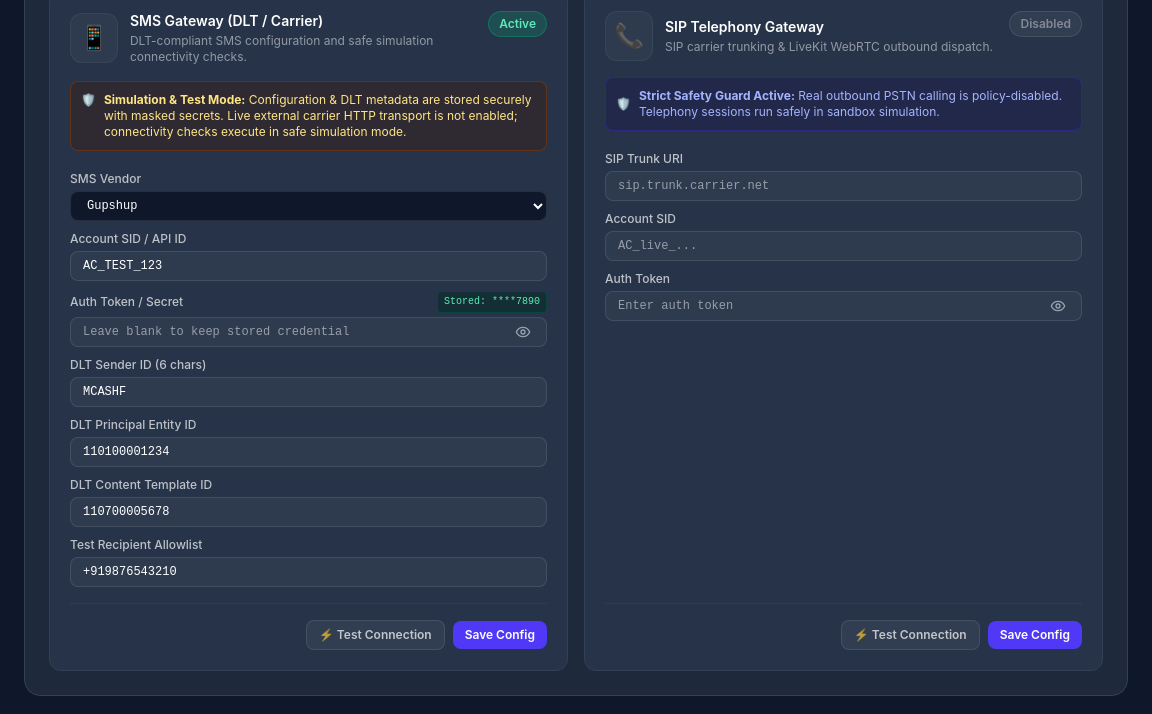
it: P2-06: Settings Compliance Audit Trail & SMS_GATEWAY › SMS_GATEWAY integration settings › runs simulated SMS_GATEWAY connection test and displays result
The width and height of the screenshot is (1152, 714).
(page scrolled)
Click the button "⚡ Test Connection" below "DLT Content Template ID" at (375, 635), box [306,620,445,650]
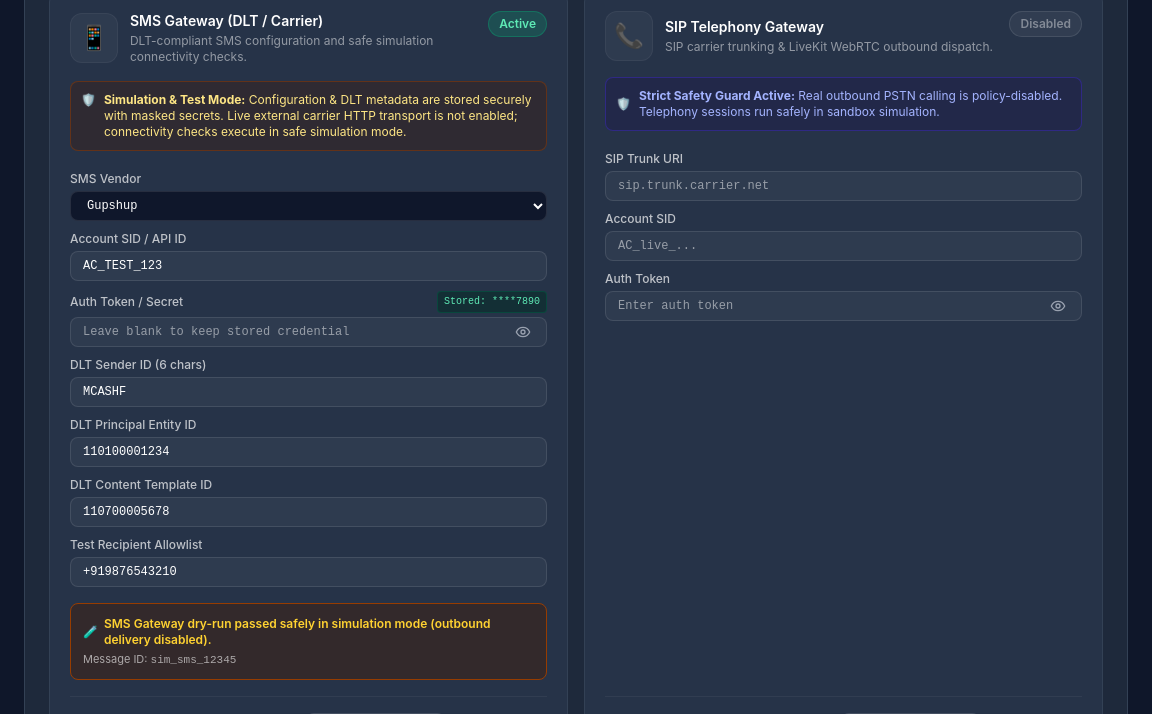
Check: the text "SMS Gateway dry-run passed safely in simulation mode" is shown, box [104,616,491,647]
Check: the text "sim_sms_12345" is shown, box [150,654,236,666]
